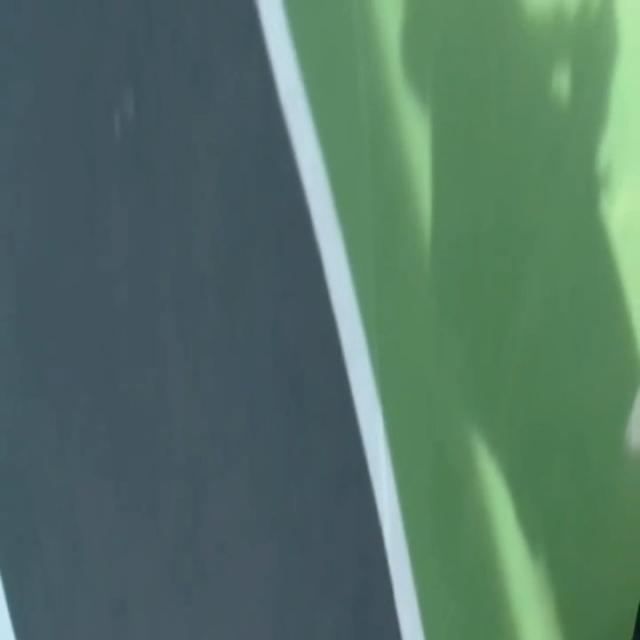center: (0, 577, 15, 639)
right: (255, 0, 424, 639)
